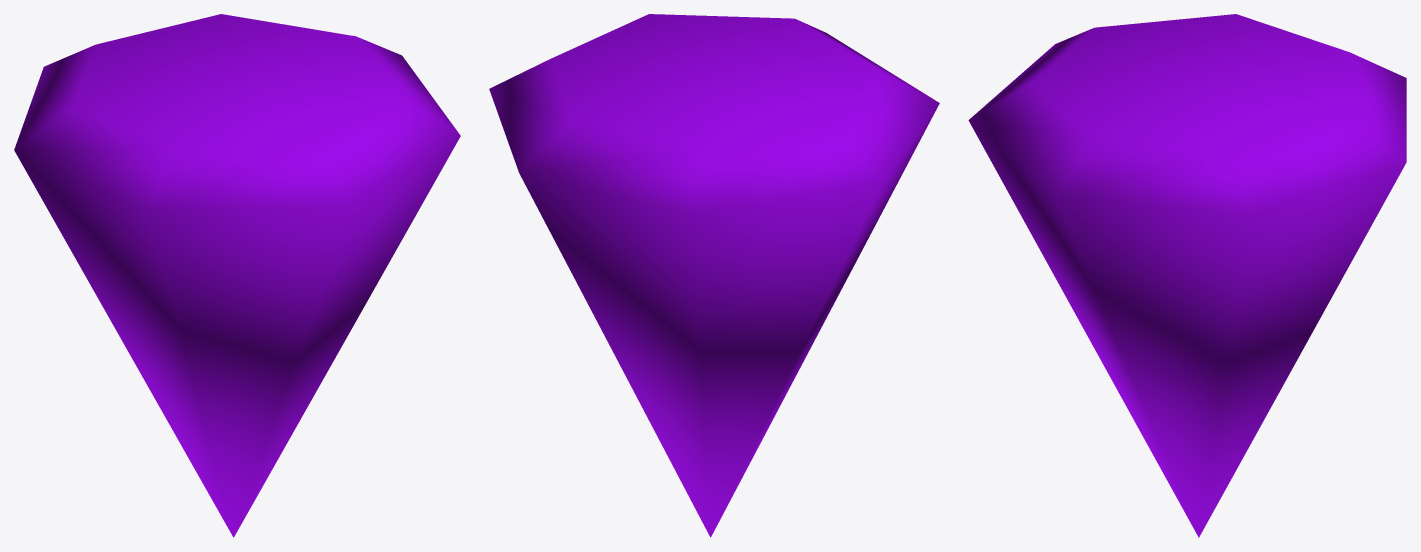
Rendered from amethyst.fbx.
3 views of the same model, side by side, from view 1: azimuth 30°, elevation 25°; view 2: azimuth 150°, elevation 25°; view 3: azimuth 270°, elevation 25° (orthographic).
Visible parts, largest first — view 1: Cone.001; view 2: Cone.001; view 3: Cone.001.
Part boxes in pixels (x1,y1,x2,y2): Cone.001: (14,14,460,537); Cone.001: (489,14,939,537); Cone.001: (968,14,1406,537).
Bounding box in the file's own units: 131 × 146 × 127.
